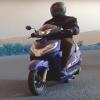motorcycles: (20, 25, 86, 96)
